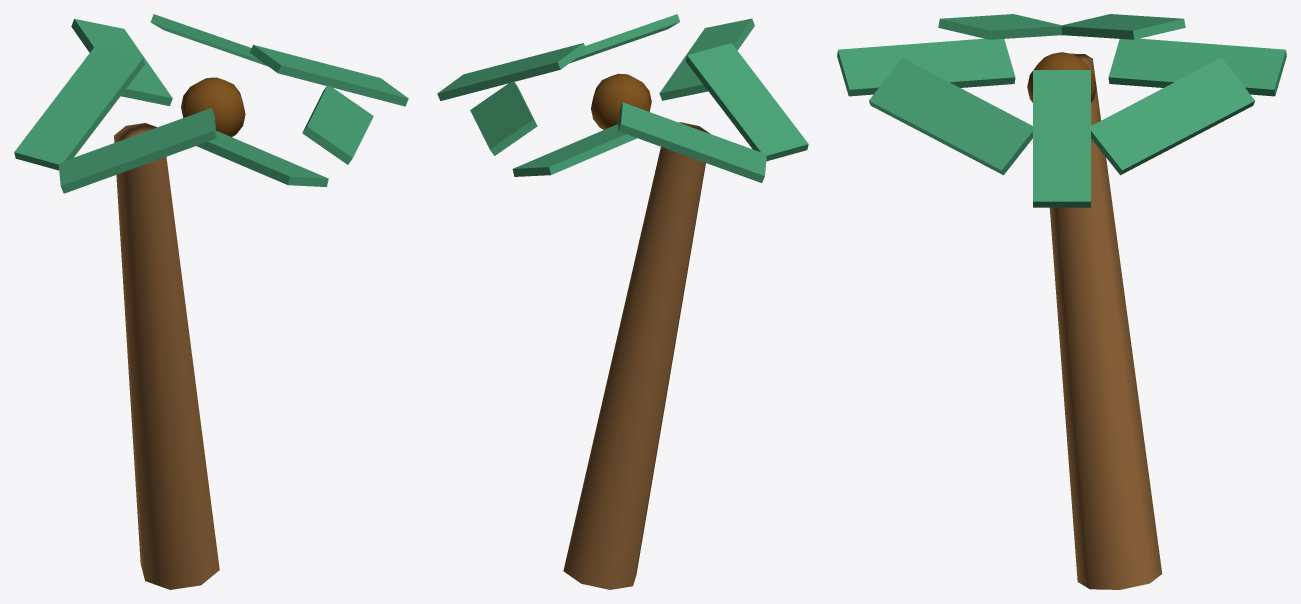
File: palm-tree.glb
The picture shows the model from 3 angles, left to right: view 1: azimuth 30°, elevation 25°; view 2: azimuth 150°, elevation 25°; view 3: azimuth 270°, elevation 25°; orthographic projection. The views are drawn at different scales.
Visible parts, largest first — view 1: Root; view 2: Root; view 3: Root.
Boxes of the visible parts, x1,y1,x2,y2 form: Root: (14,14,408,589); Root: (437,14,808,589); Root: (837,14,1286,589).
Size of the model in its own units: 5.54 by 7.77 by 5.82.
